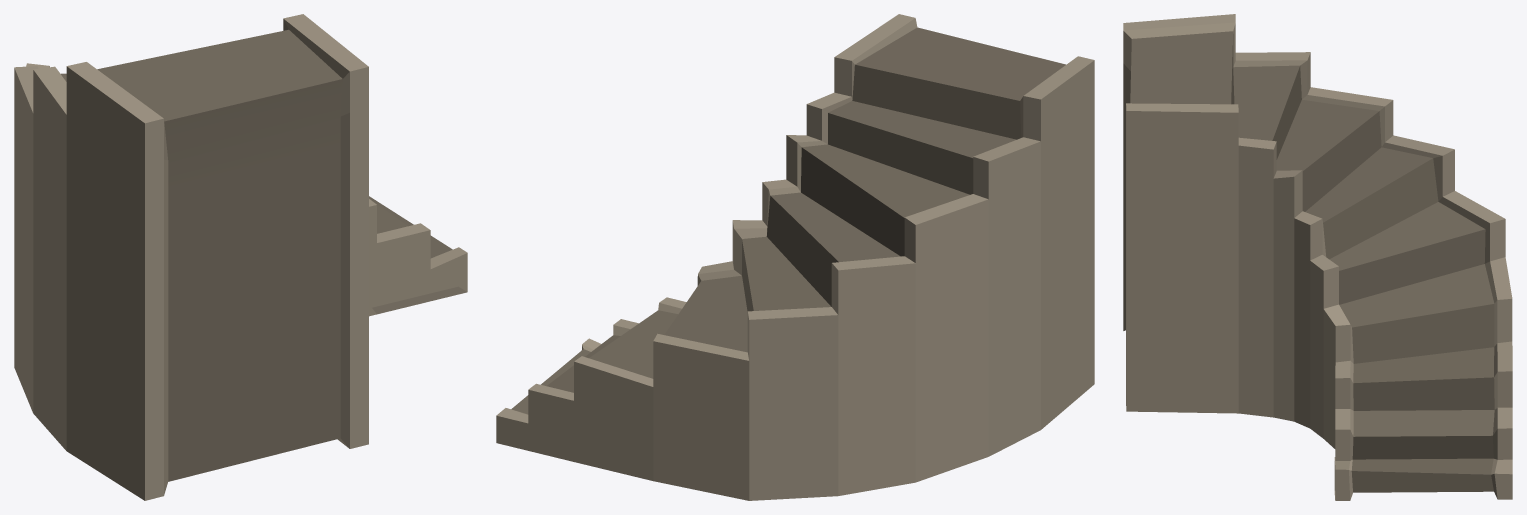
Rendered from staircase.fbx.
3 views of the same model, side by side, from view 1: azimuth 30°, elevation 25°; view 2: azimuth 150°, elevation 25°; view 3: azimuth 270°, elevation 25° (orthographic). The views are drawn at different scales.
Visible parts, largest first — view 1: staircase; view 2: staircase; view 3: staircase.
Boxes of the visible parts, x1=… form: staircase: x1=14, y1=14, x2=467, y2=500; staircase: x1=496, y1=14, x2=1094, y2=500; staircase: x1=1123, y1=14, x2=1512, y2=500.
Bounding box in the file's own units: 3.09 × 2.46 × 2.83.
